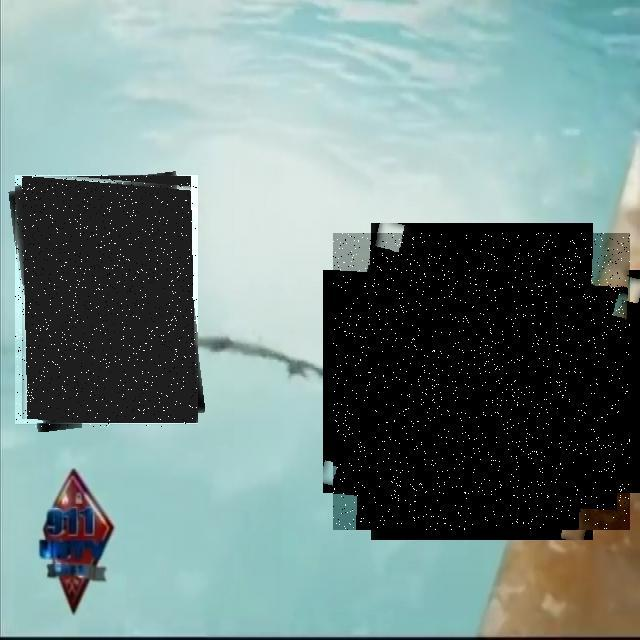3: (15, 175, 198, 428)
drowning: (333, 233, 630, 530)
